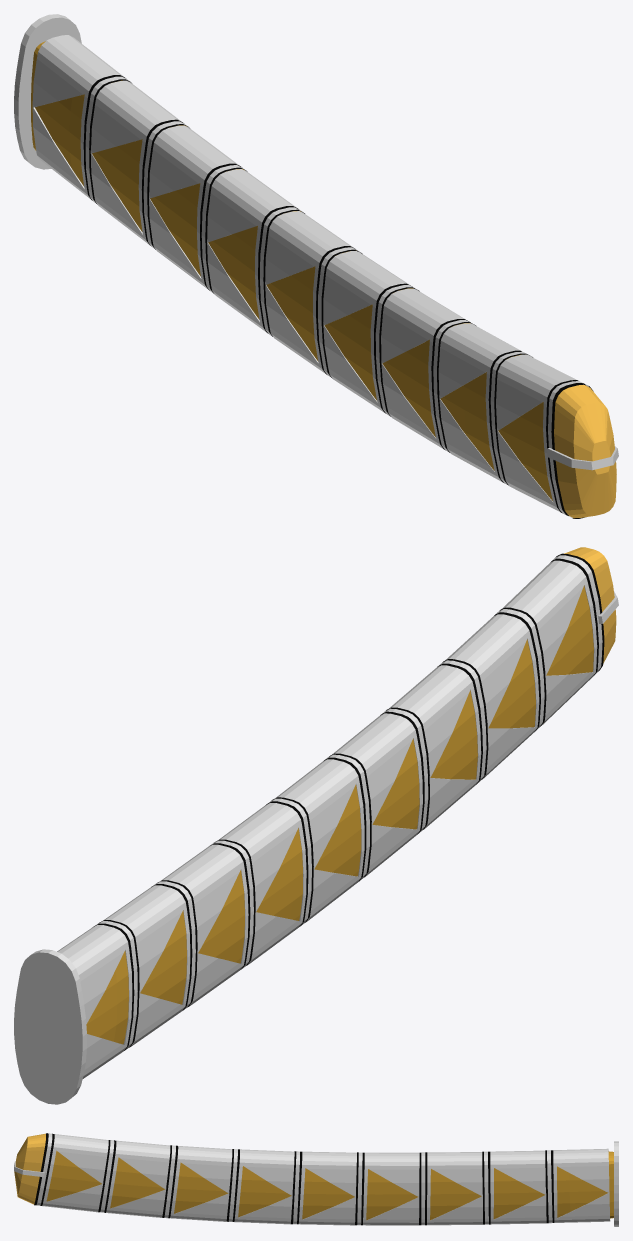
Rendered from hilt_thunder.glb.
3 views of the same model, one above another, from view 1: azimuth 30°, elevation 25°; view 2: azimuth 150°, elevation 25°; view 3: azimuth 270°, elevation 25° (orthographic). The views are drawn at different scales.
Visible parts, largest first — view 1: HiltDecoration, HiltShit; view 2: HiltDecoration, HiltShit; view 3: HiltDecoration, HiltShit.
Part boxes in pixels (x1,y1,x2,y2): HiltDecoration: [32, 35, 593, 518]; HiltShit: [14, 14, 618, 518]; HiltDecoration: [57, 553, 604, 1078]; HiltShit: [14, 547, 618, 1104]; HiltDecoration: [34, 1133, 610, 1225]; HiltShit: [14, 1133, 618, 1226].
Bounding box in the file's own units: 0.0353 × 0.0809 × 0.4935.
